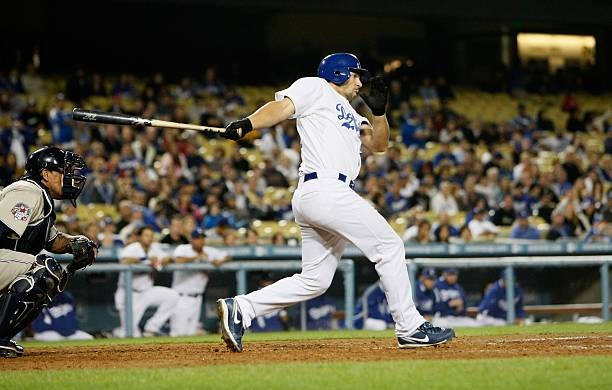bita: (65, 100, 258, 140)
